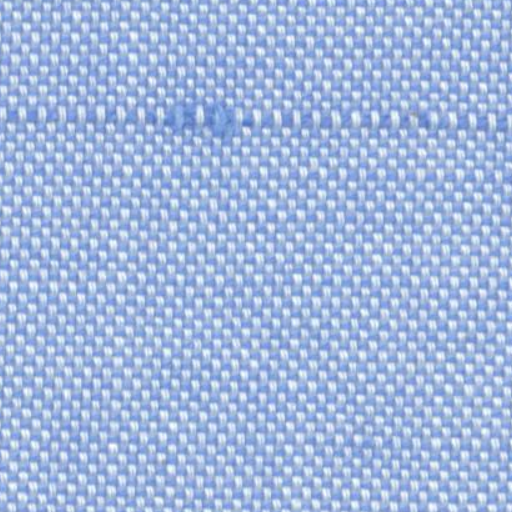DaiSha: (10, 83, 500, 146)
